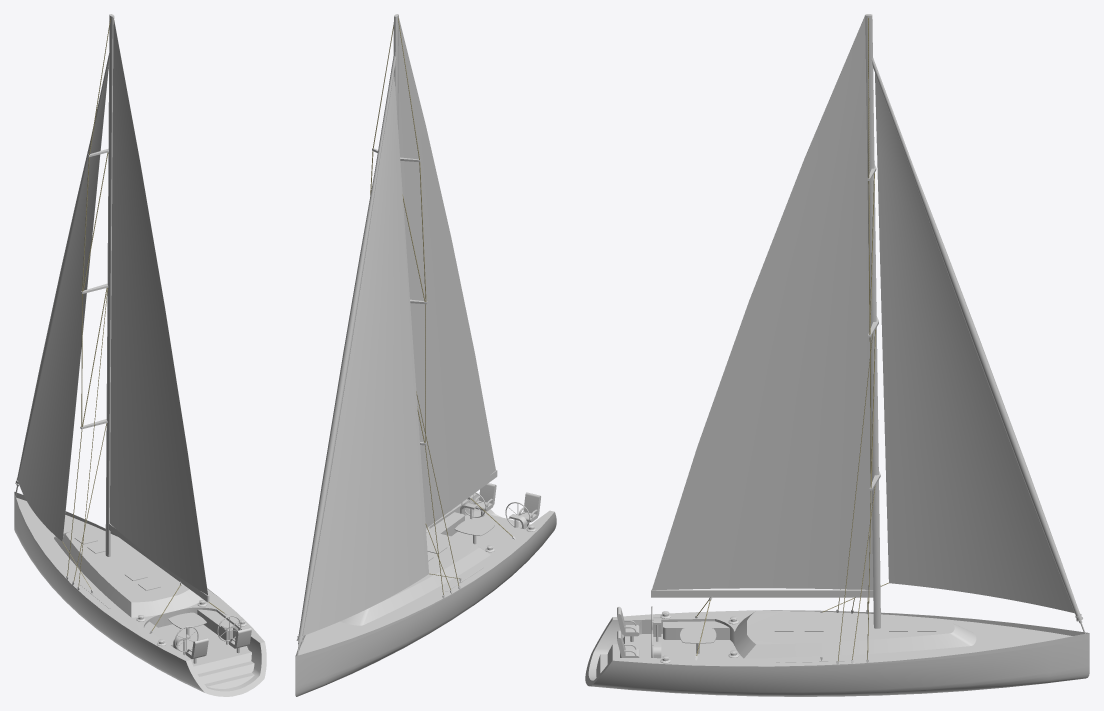
The model's file is 55+foot+boat+sailing.fbx.
3 views of the same model, side by side, from view 1: azimuth 30°, elevation 25°; view 2: azimuth 150°, elevation 25°; view 3: azimuth 270°, elevation 25° (orthographic). The views are drawn at different scales.
Visible parts, largest first — view 1: 55+foot+boat+sailing,002, 55+foot+boat+sailing, 55+foot+boat+sailing,001, 55+foot+boat+sailing.005; view 2: 55+foot+boat+sailing,002, 55+foot+boat+sailing, 55+foot+boat+sailing.005, 55+foot+boat+sailing,001; view 3: 55+foot+boat+sailing,002, 55+foot+boat+sailing, 55+foot+boat+sailing,001, 55+foot+boat+sailing.005.
Boxes of the visible parts, x1,y1,x2,y2 form: 55+foot+boat+sailing,002: (18,17,208,595); 55+foot+boat+sailing: (14,14,266,696); 55+foot+boat+sailing,001: (62,18,224,630); 55+foot+boat+sailing.005: (66,576,251,663); 55+foot+boat+sailing,002: (303,18,495,635); 55+foot+boat+sailing: (295,14,556,696); 55+foot+boat+sailing.005: (426,483,540,598); 55+foot+boat+sailing,001: (370,18,512,594); 55+foot+boat+sailing,002: (652,15,1074,613); 55+foot+boat+sailing: (585,14,1089,696); 55+foot+boat+sailing,001: (696,18,888,661); 55+foot+boat+sailing.005: (617,596,868,664).
Bounding box in the file's own units: 4.45 × 24.75 × 16.87.
